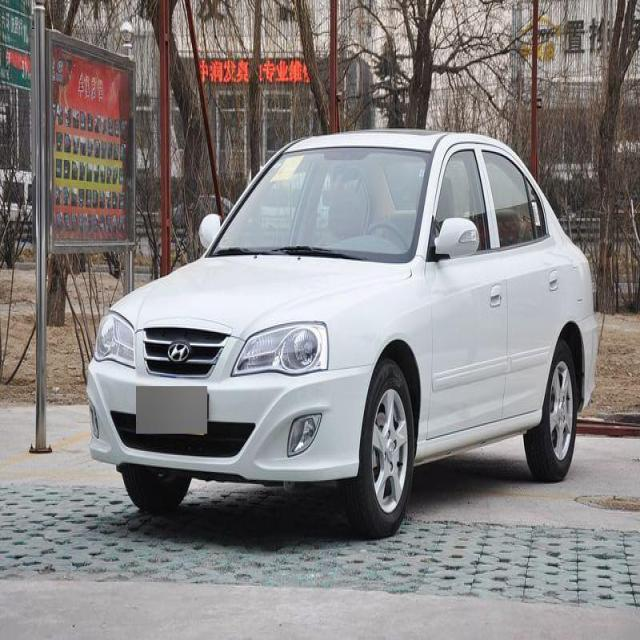door: (476, 144, 556, 431)
front_bumper: (85, 353, 377, 484)
front_glass: (215, 143, 434, 258)
front_left_side_door: (423, 138, 510, 446)
front_left_side_light: (230, 318, 330, 380)
front_left_side_mirror: (433, 214, 481, 261)
front_right_side_light: (91, 304, 139, 372)
front_right_side_mirror: (198, 209, 222, 254)
wheel: (343, 360, 416, 538), (522, 340, 578, 481), (121, 466, 193, 510)
